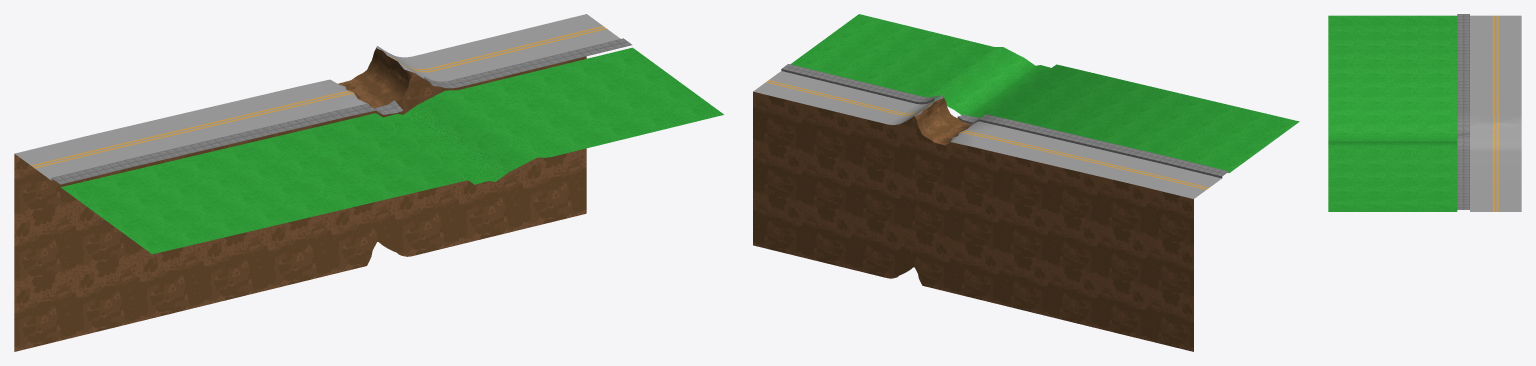
Rendered from Terrain_08_jump_point_2.FBX.
3 renders of one model, left to right at view 1: azimuth 30°, elevation 25°; view 2: azimuth 150°, elevation 25°; view 3: azimuth 270°, elevation 25°, orthographic. The views are drawn at different scales.
Visible parts, largest first — view 1: Terrain_08_grass, Terrain_08_ground, Terrain_08; view 2: Terrain_08_ground, Terrain_08_grass, Terrain_08; view 3: Terrain_08_grass, Terrain_08.
Boxes of the visible parts, x1=… form: Terrain_08_grass: x1=60, y1=47, x2=723, y2=254; Terrain_08_ground: x1=14, y1=56, x2=586, y2=351; Terrain_08: x1=15, y1=14, x2=631, y2=184; Terrain_08_ground: x1=753, y1=91, x2=1193, y2=351; Terrain_08_grass: x1=791, y1=14, x2=1299, y2=172; Terrain_08: x1=753, y1=64, x2=1228, y2=198; Terrain_08_grass: x1=1328, y1=15, x2=1457, y2=211; Terrain_08: x1=1457, y1=14, x2=1521, y2=211.
Bounding box in the file's own units: 360 × 133 × 150.
